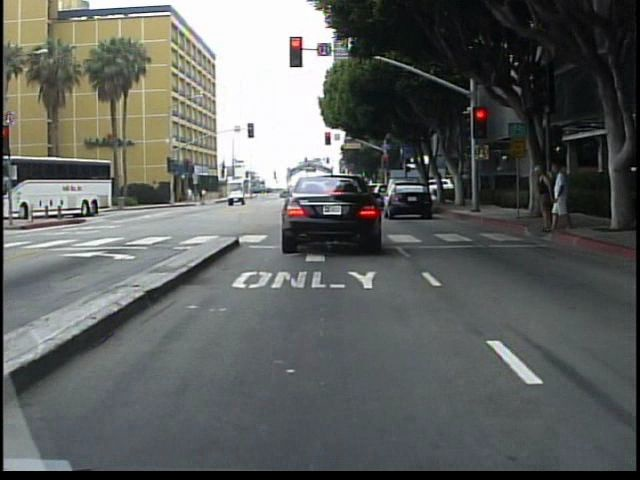person: (548, 162, 573, 239), (530, 163, 553, 236)
